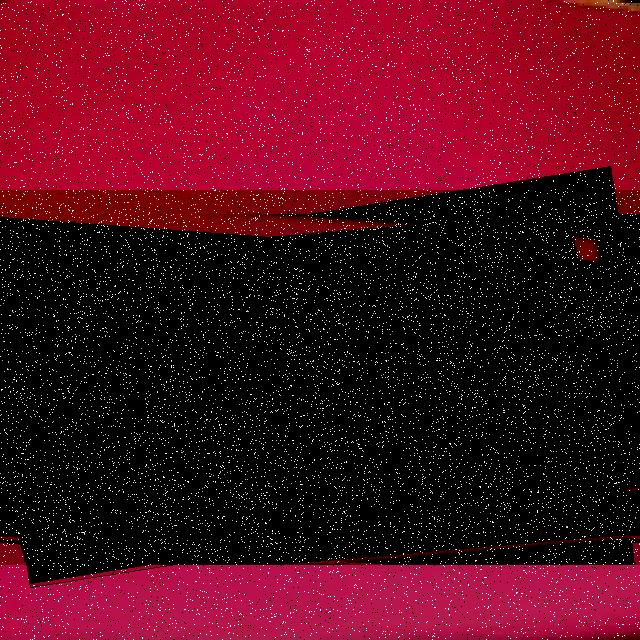dua ribu rupiah: (0, 190, 640, 565)
